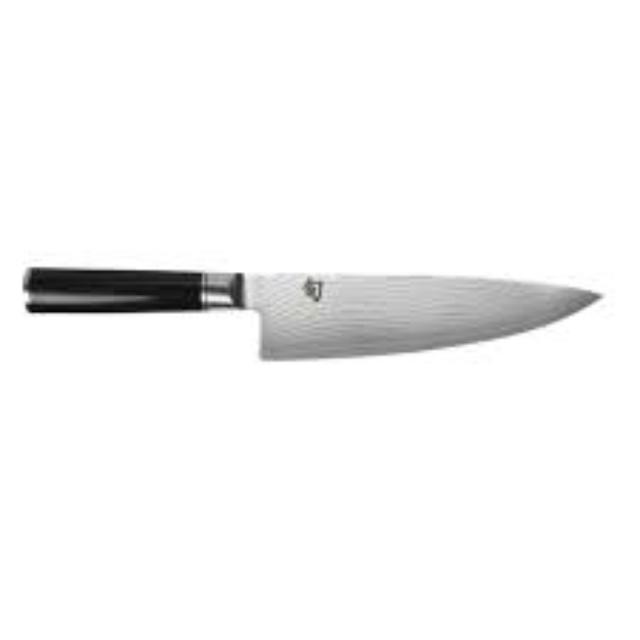knife: (20, 265, 602, 361)
